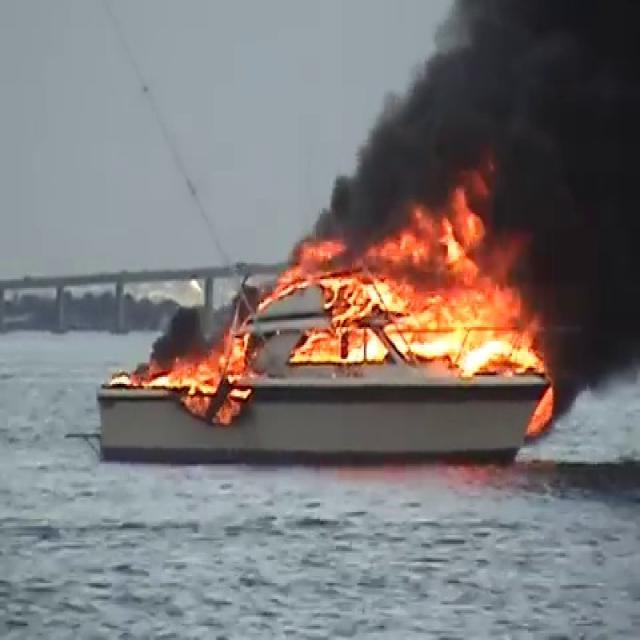Fire: (283, 196, 554, 377), (122, 327, 258, 413)
Smoke: (312, 0, 640, 292)
